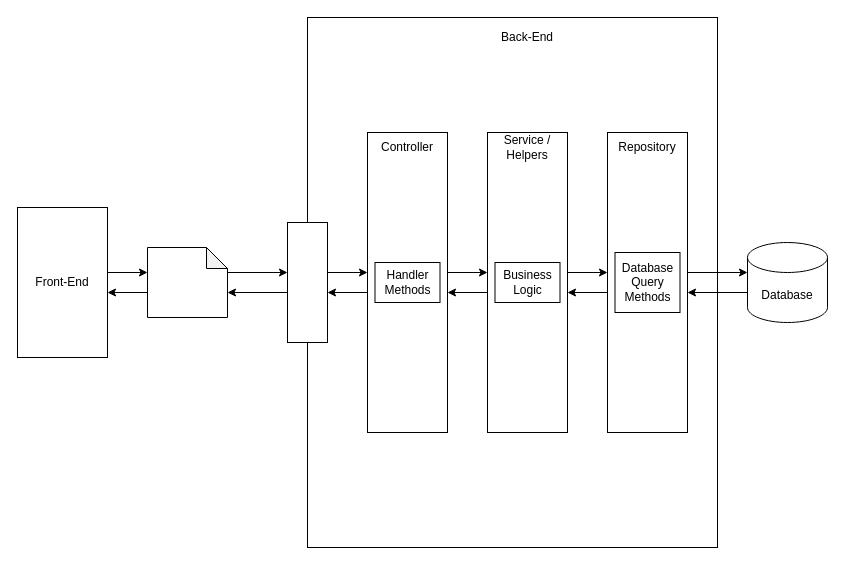
Image size: 845x565. Some labels were removed from this diagram. The shapes that lost their labels are listed below. From the top down, each one's centre as x and y in pixels, then its label:
At (187,282): "JSON".
At (307,282): "HTTP REST API".
